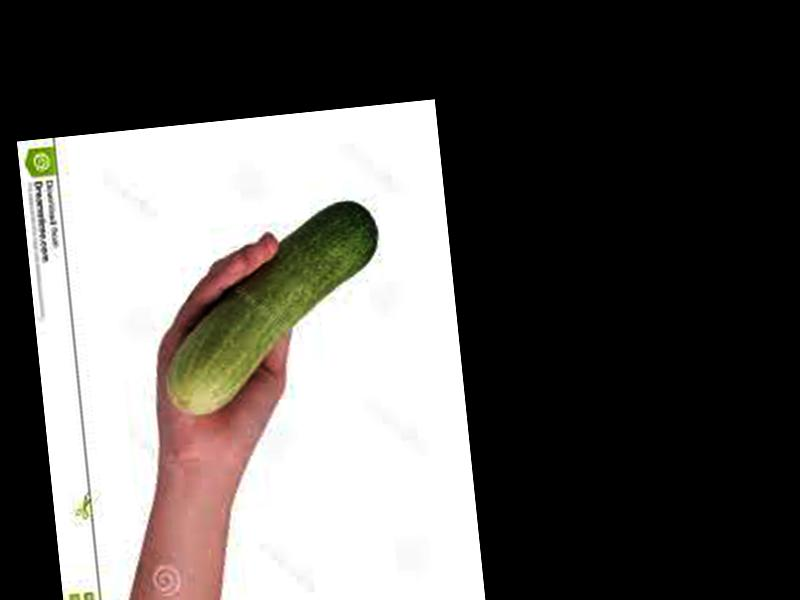Cucumber: (152, 201, 392, 417)
